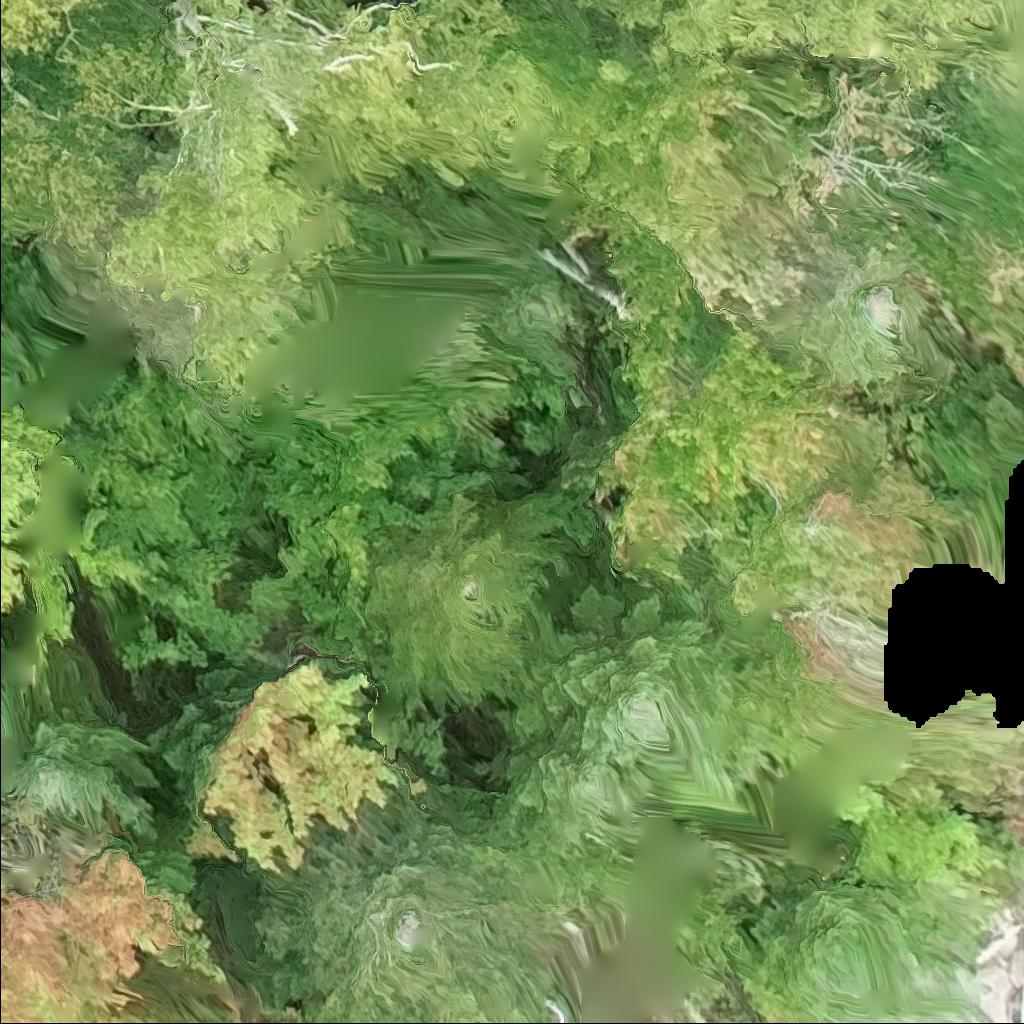crown: (0, 0, 106, 56)
